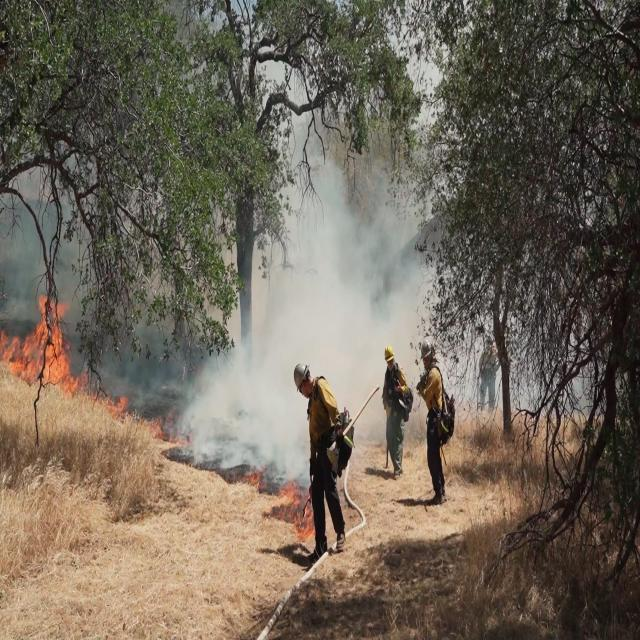Fire: (0, 293, 78, 383)
Smoke: (180, 121, 421, 476)
